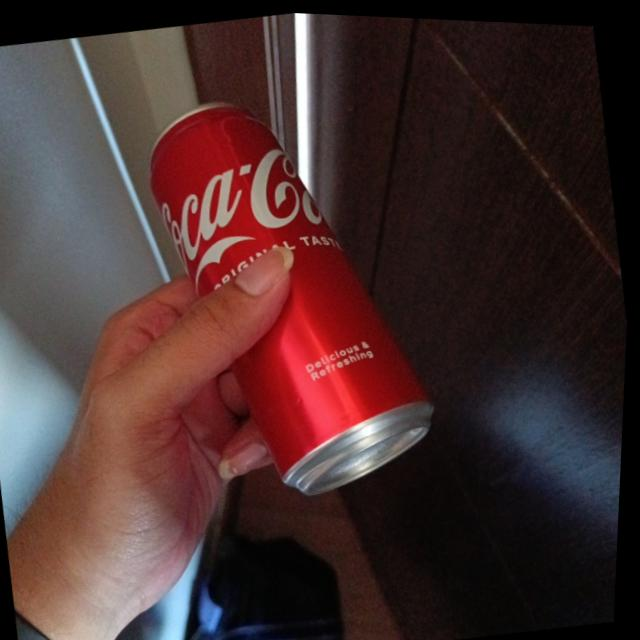coke: (135, 71, 455, 511)
